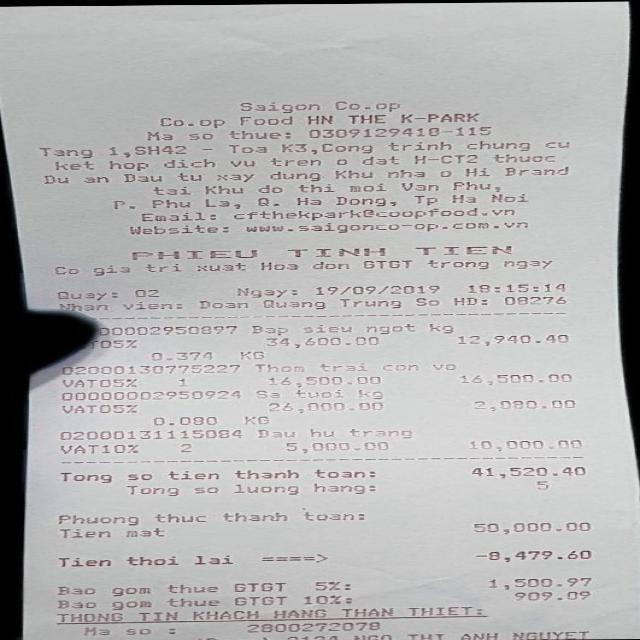Date: (312, 281, 448, 299)
Store_Name: (151, 109, 493, 130)
Total_Amount: (47, 461, 591, 483)
